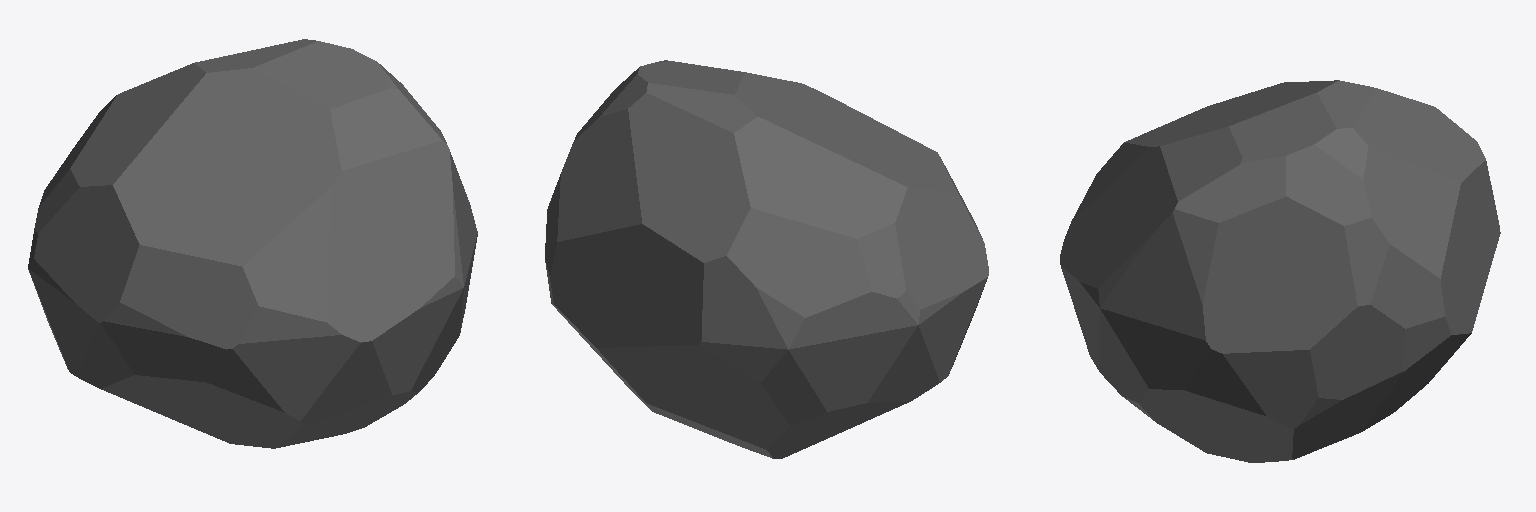
The picture shows the model from 3 angles: view 1: azimuth 30°, elevation 25°; view 2: azimuth 150°, elevation 25°; view 3: azimuth 270°, elevation 25°; orthographic projection.
Parts seen in each view (by area): view 1: ICO球.001_ICO球.003; view 2: ICO球.001_ICO球.003; view 3: ICO球.001_ICO球.003.
Boxes of the visible parts, <box> form: ICO球.001_ICO球.003: <box>28,39,477,448</box>; ICO球.001_ICO球.003: <box>545,60,988,458</box>; ICO球.001_ICO球.003: <box>1060,80,1500,462</box>.
Size of the model in its own units: 3.58 by 3.1 by 3.61.
1 materials, 1 textured.